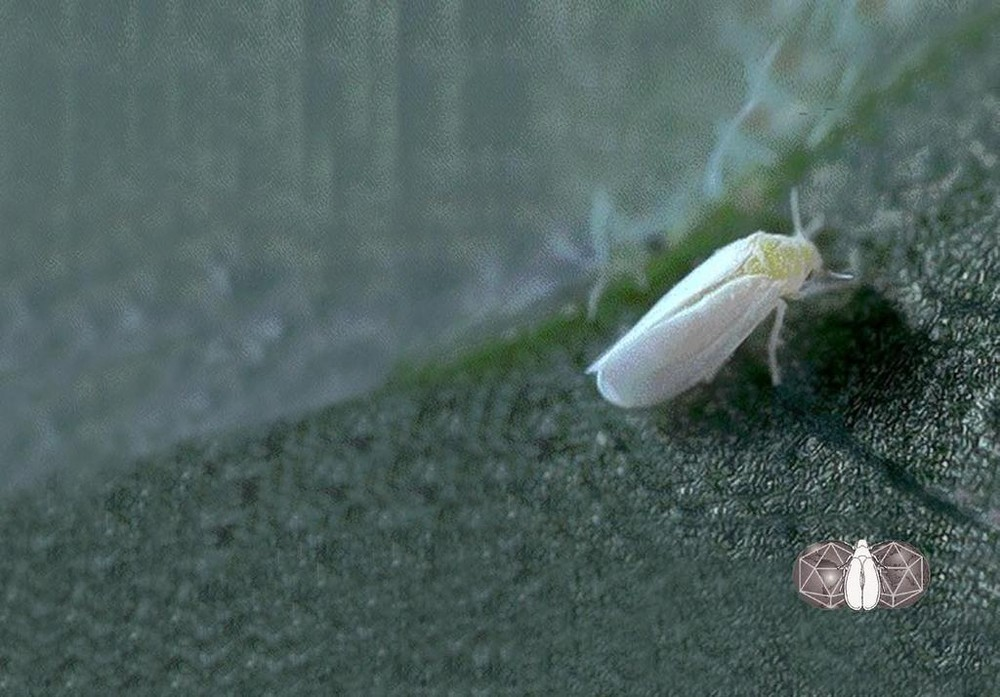Mosca Blanca: (567, 182, 893, 435)
